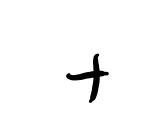plus: (66, 53, 109, 104)
